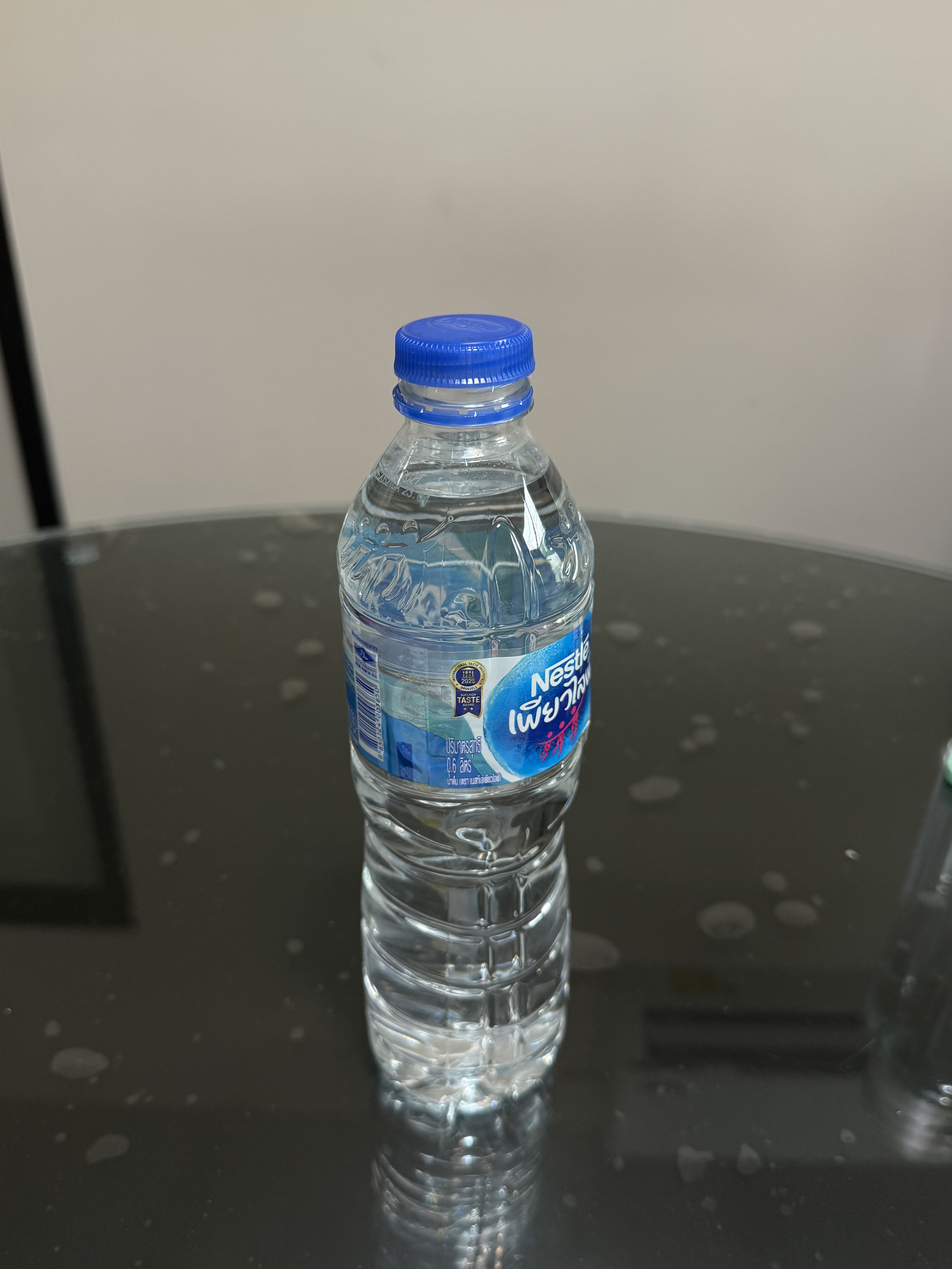half_cap: (383, 302, 538, 421)
